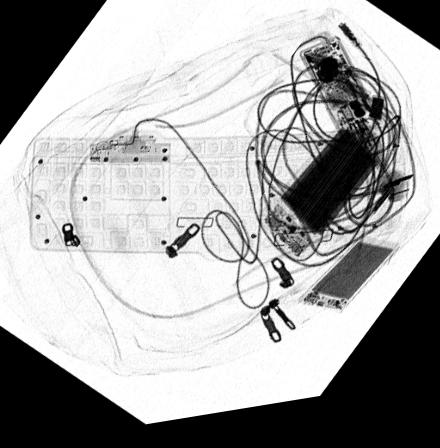Powerbank: (258, 134, 388, 269), (298, 246, 399, 325)
